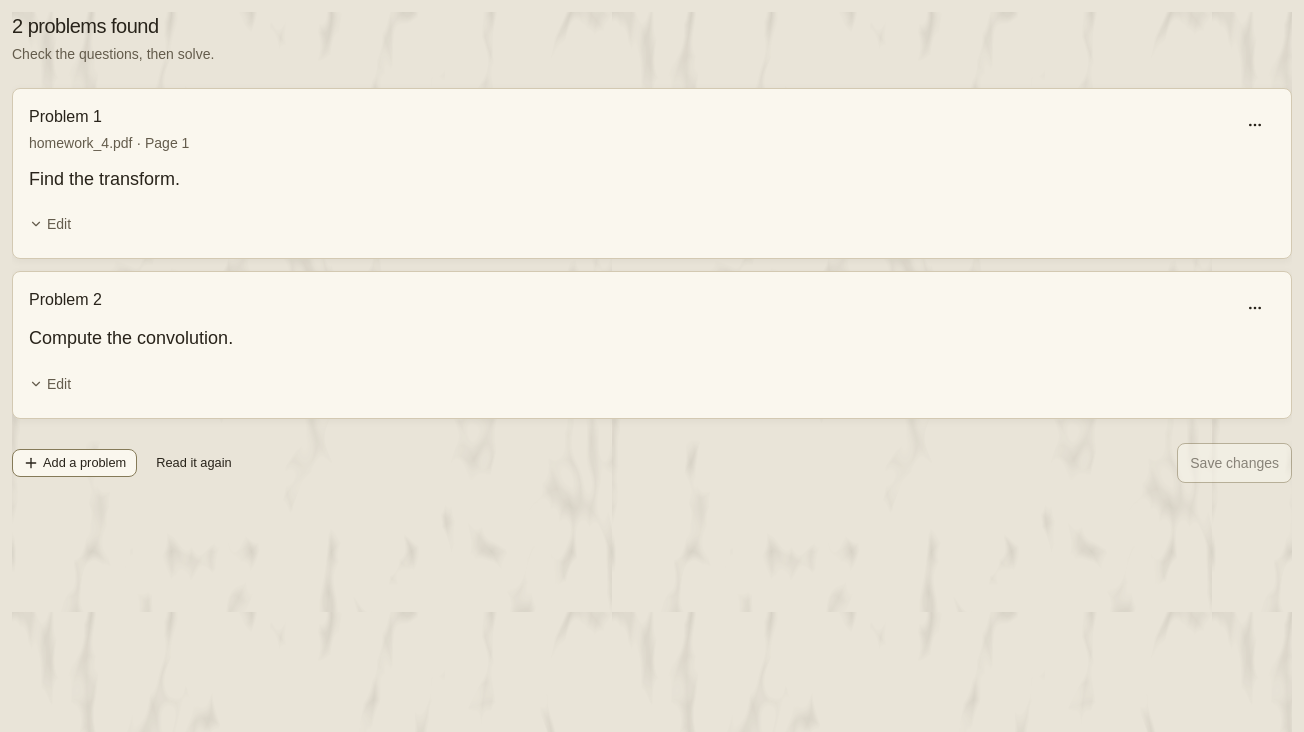
SegmentationReview › undo › answers to the keyboard
The image size is (1304, 732).
Click the button named "Actions for Problem 2". click: (1255, 308)
box: [1235,288,1275,328]
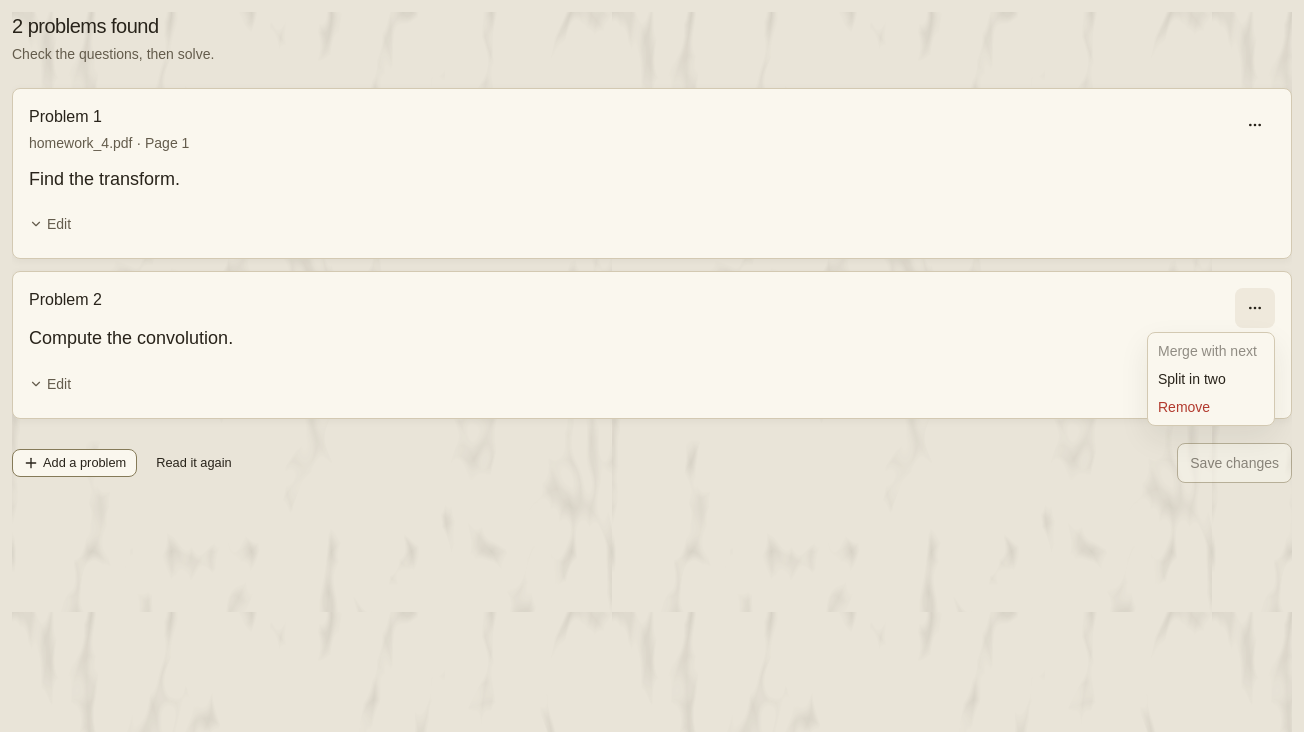
Click the menu item "Remove". click: (1184, 407)
box: [1158,399,1210,415]
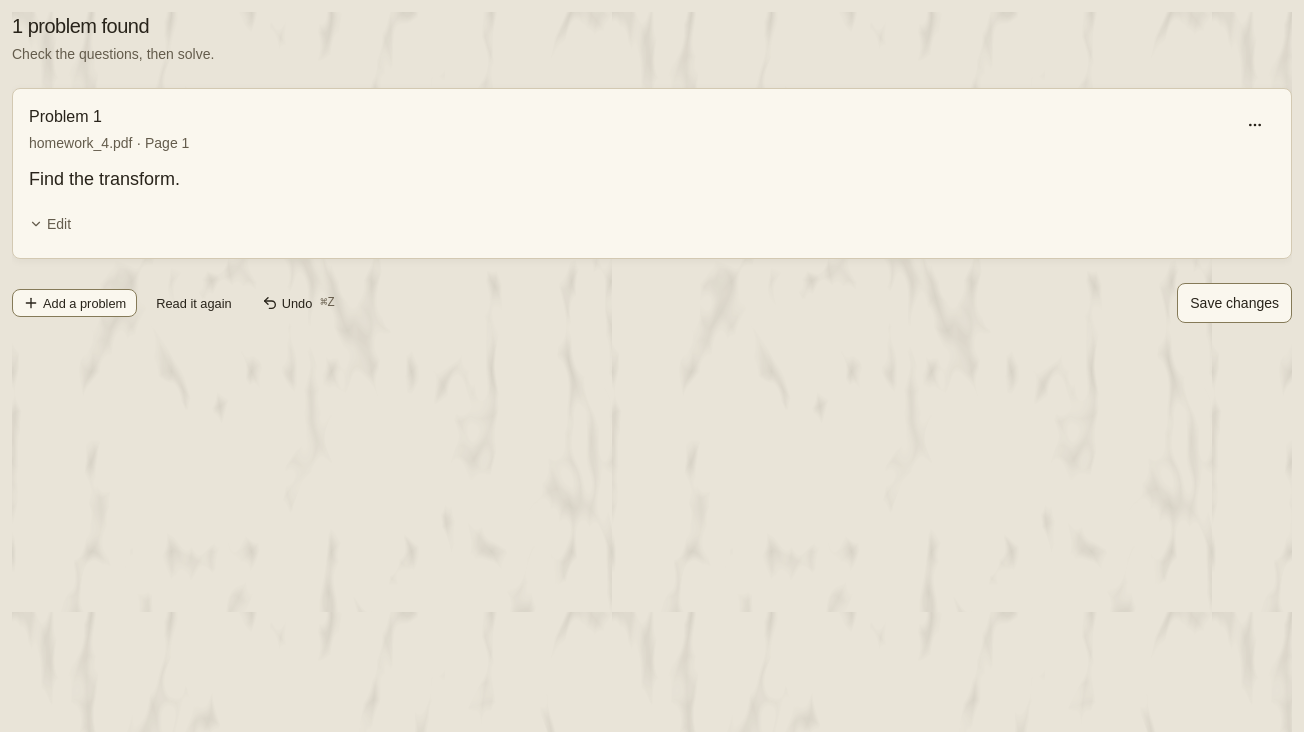
Check: the heading "1 problem found" is shown, box [12,15,149,37]
Type keys "{Meta>}z{/Meta}"
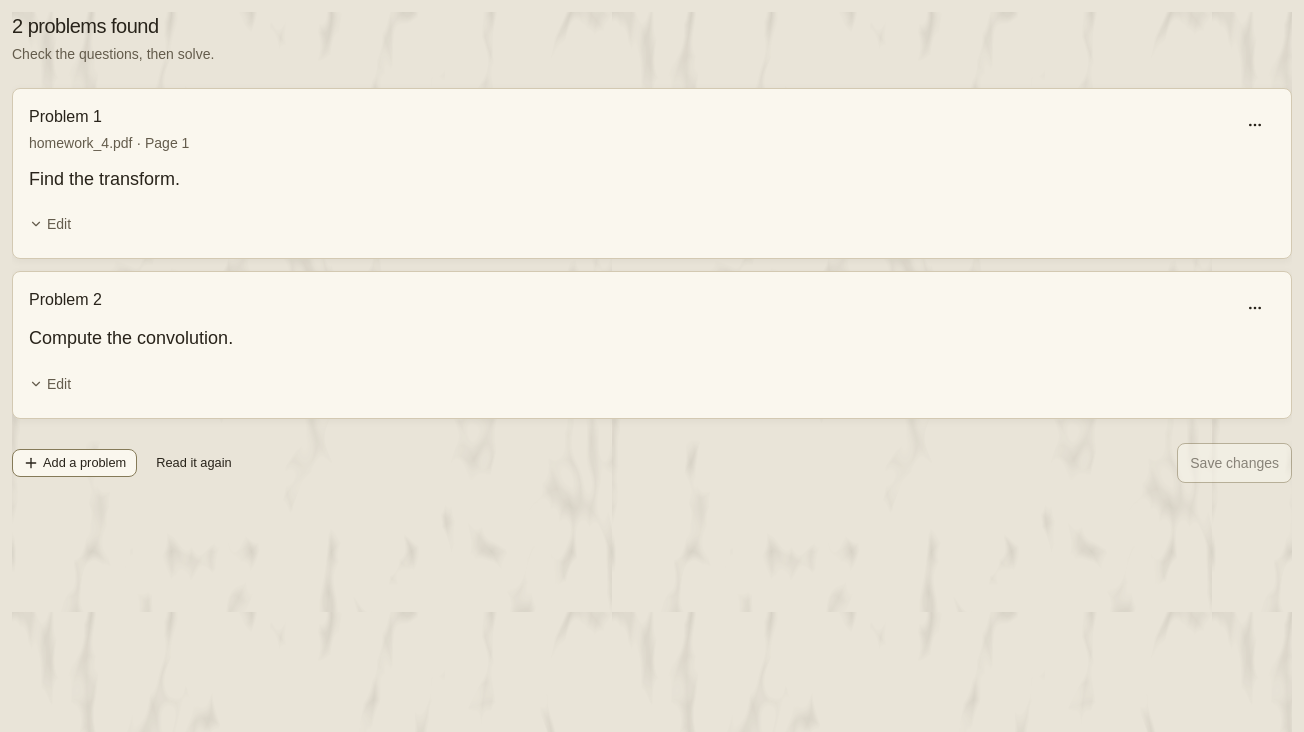
Check: the heading "2 problems found" is shown, box [12,15,158,37]
Check: the text "Compute the convolution." is shown, box [29,328,233,348]
